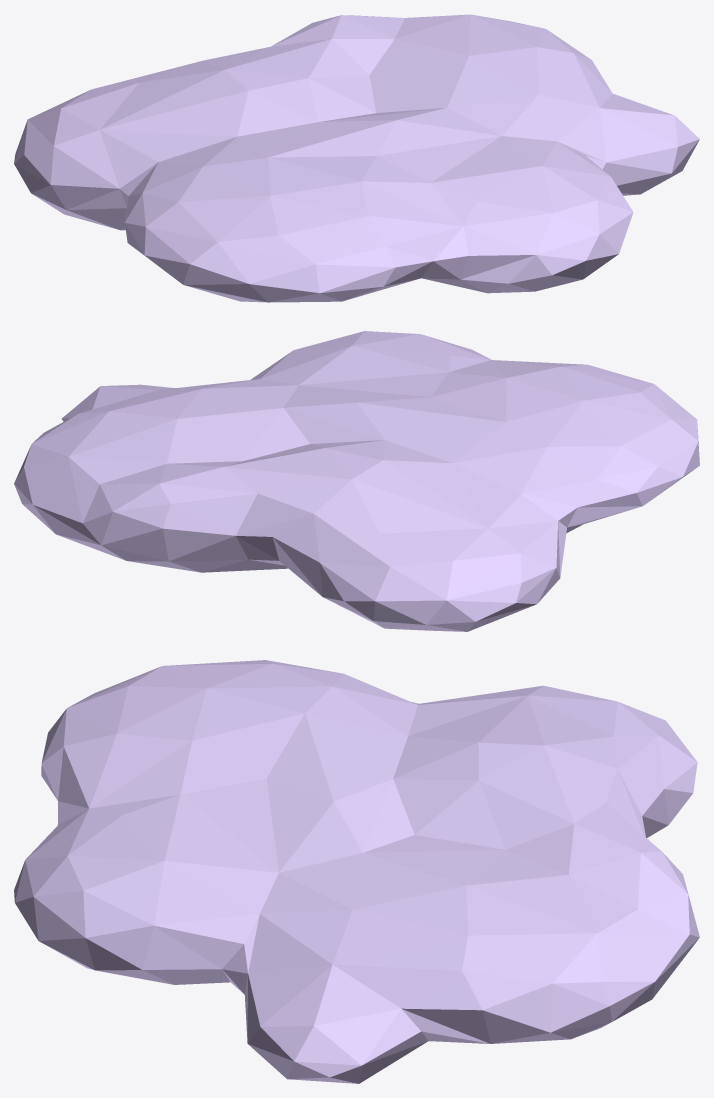
Rendered from Cloud_4.glb.
3 views of the same model, one above another, from view 1: azimuth 30°, elevation 25°; view 2: azimuth 150°, elevation 25°; view 3: azimuth 270°, elevation 25° (orthographic). The views are drawn at different scales.
Visible parts, largest first — view 1: Cloud_04; view 2: Cloud_04; view 3: Cloud_04.
Part boxes in pixels (x1,y1,x2,y2): Cloud_04: (14,14,699,302); Cloud_04: (14,331,699,631); Cloud_04: (14,660,699,1083).
Bounding box in the file's own units: 9.55 × 1.92 × 8.1.
